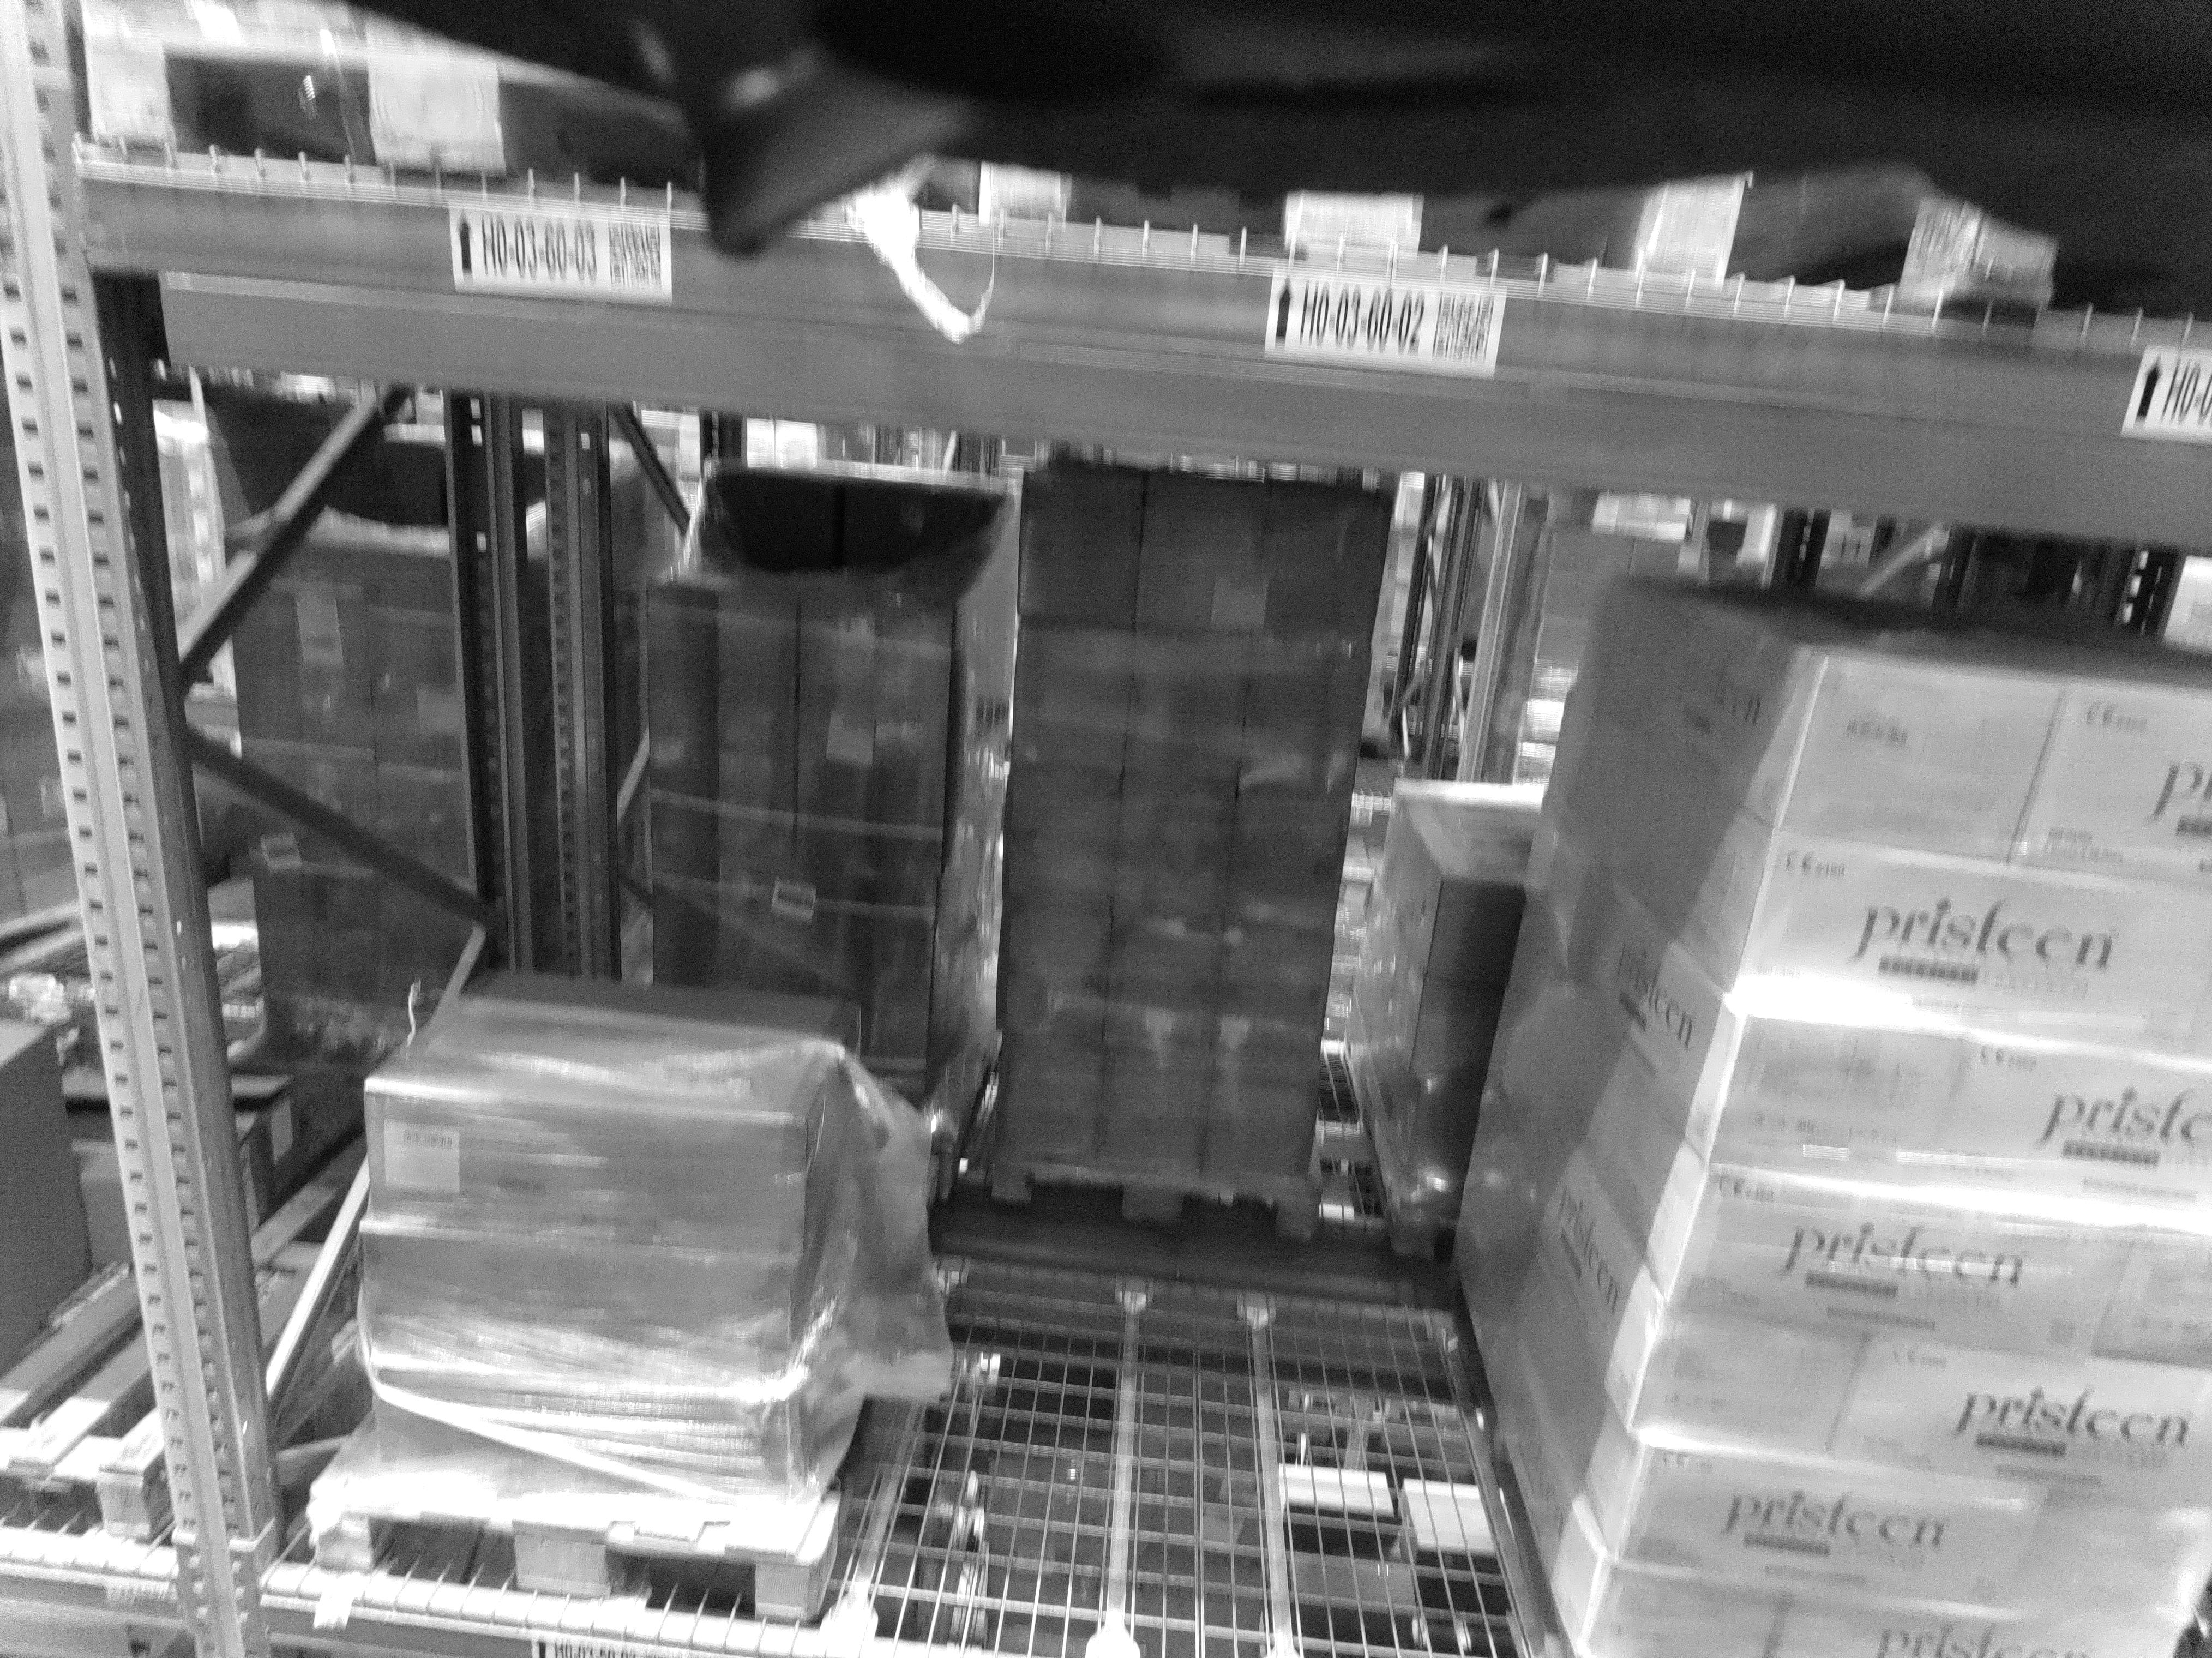empty-shelf: (944, 460, 1461, 1658)
